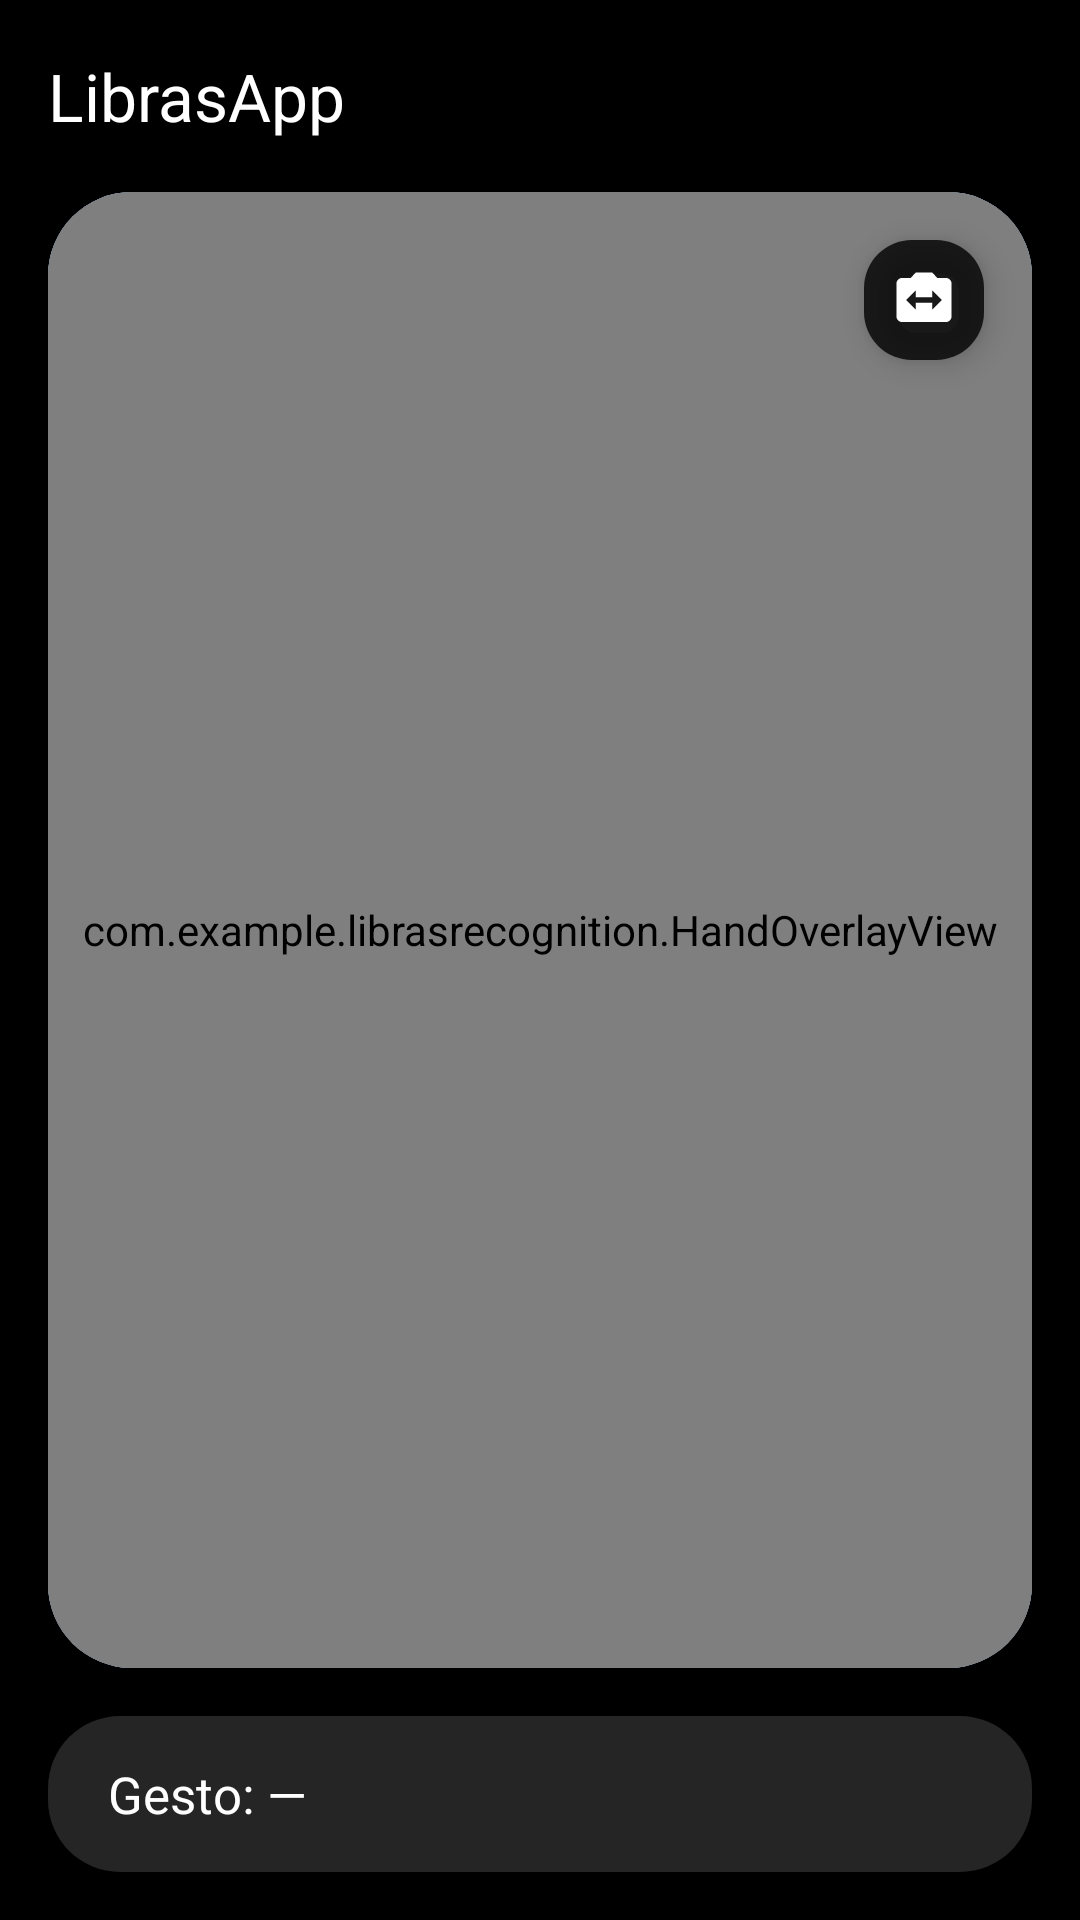

Named icons in this screenshot (1080px x 1920px) and their centers, (x,y):
Trocar câmera: (924,300)
